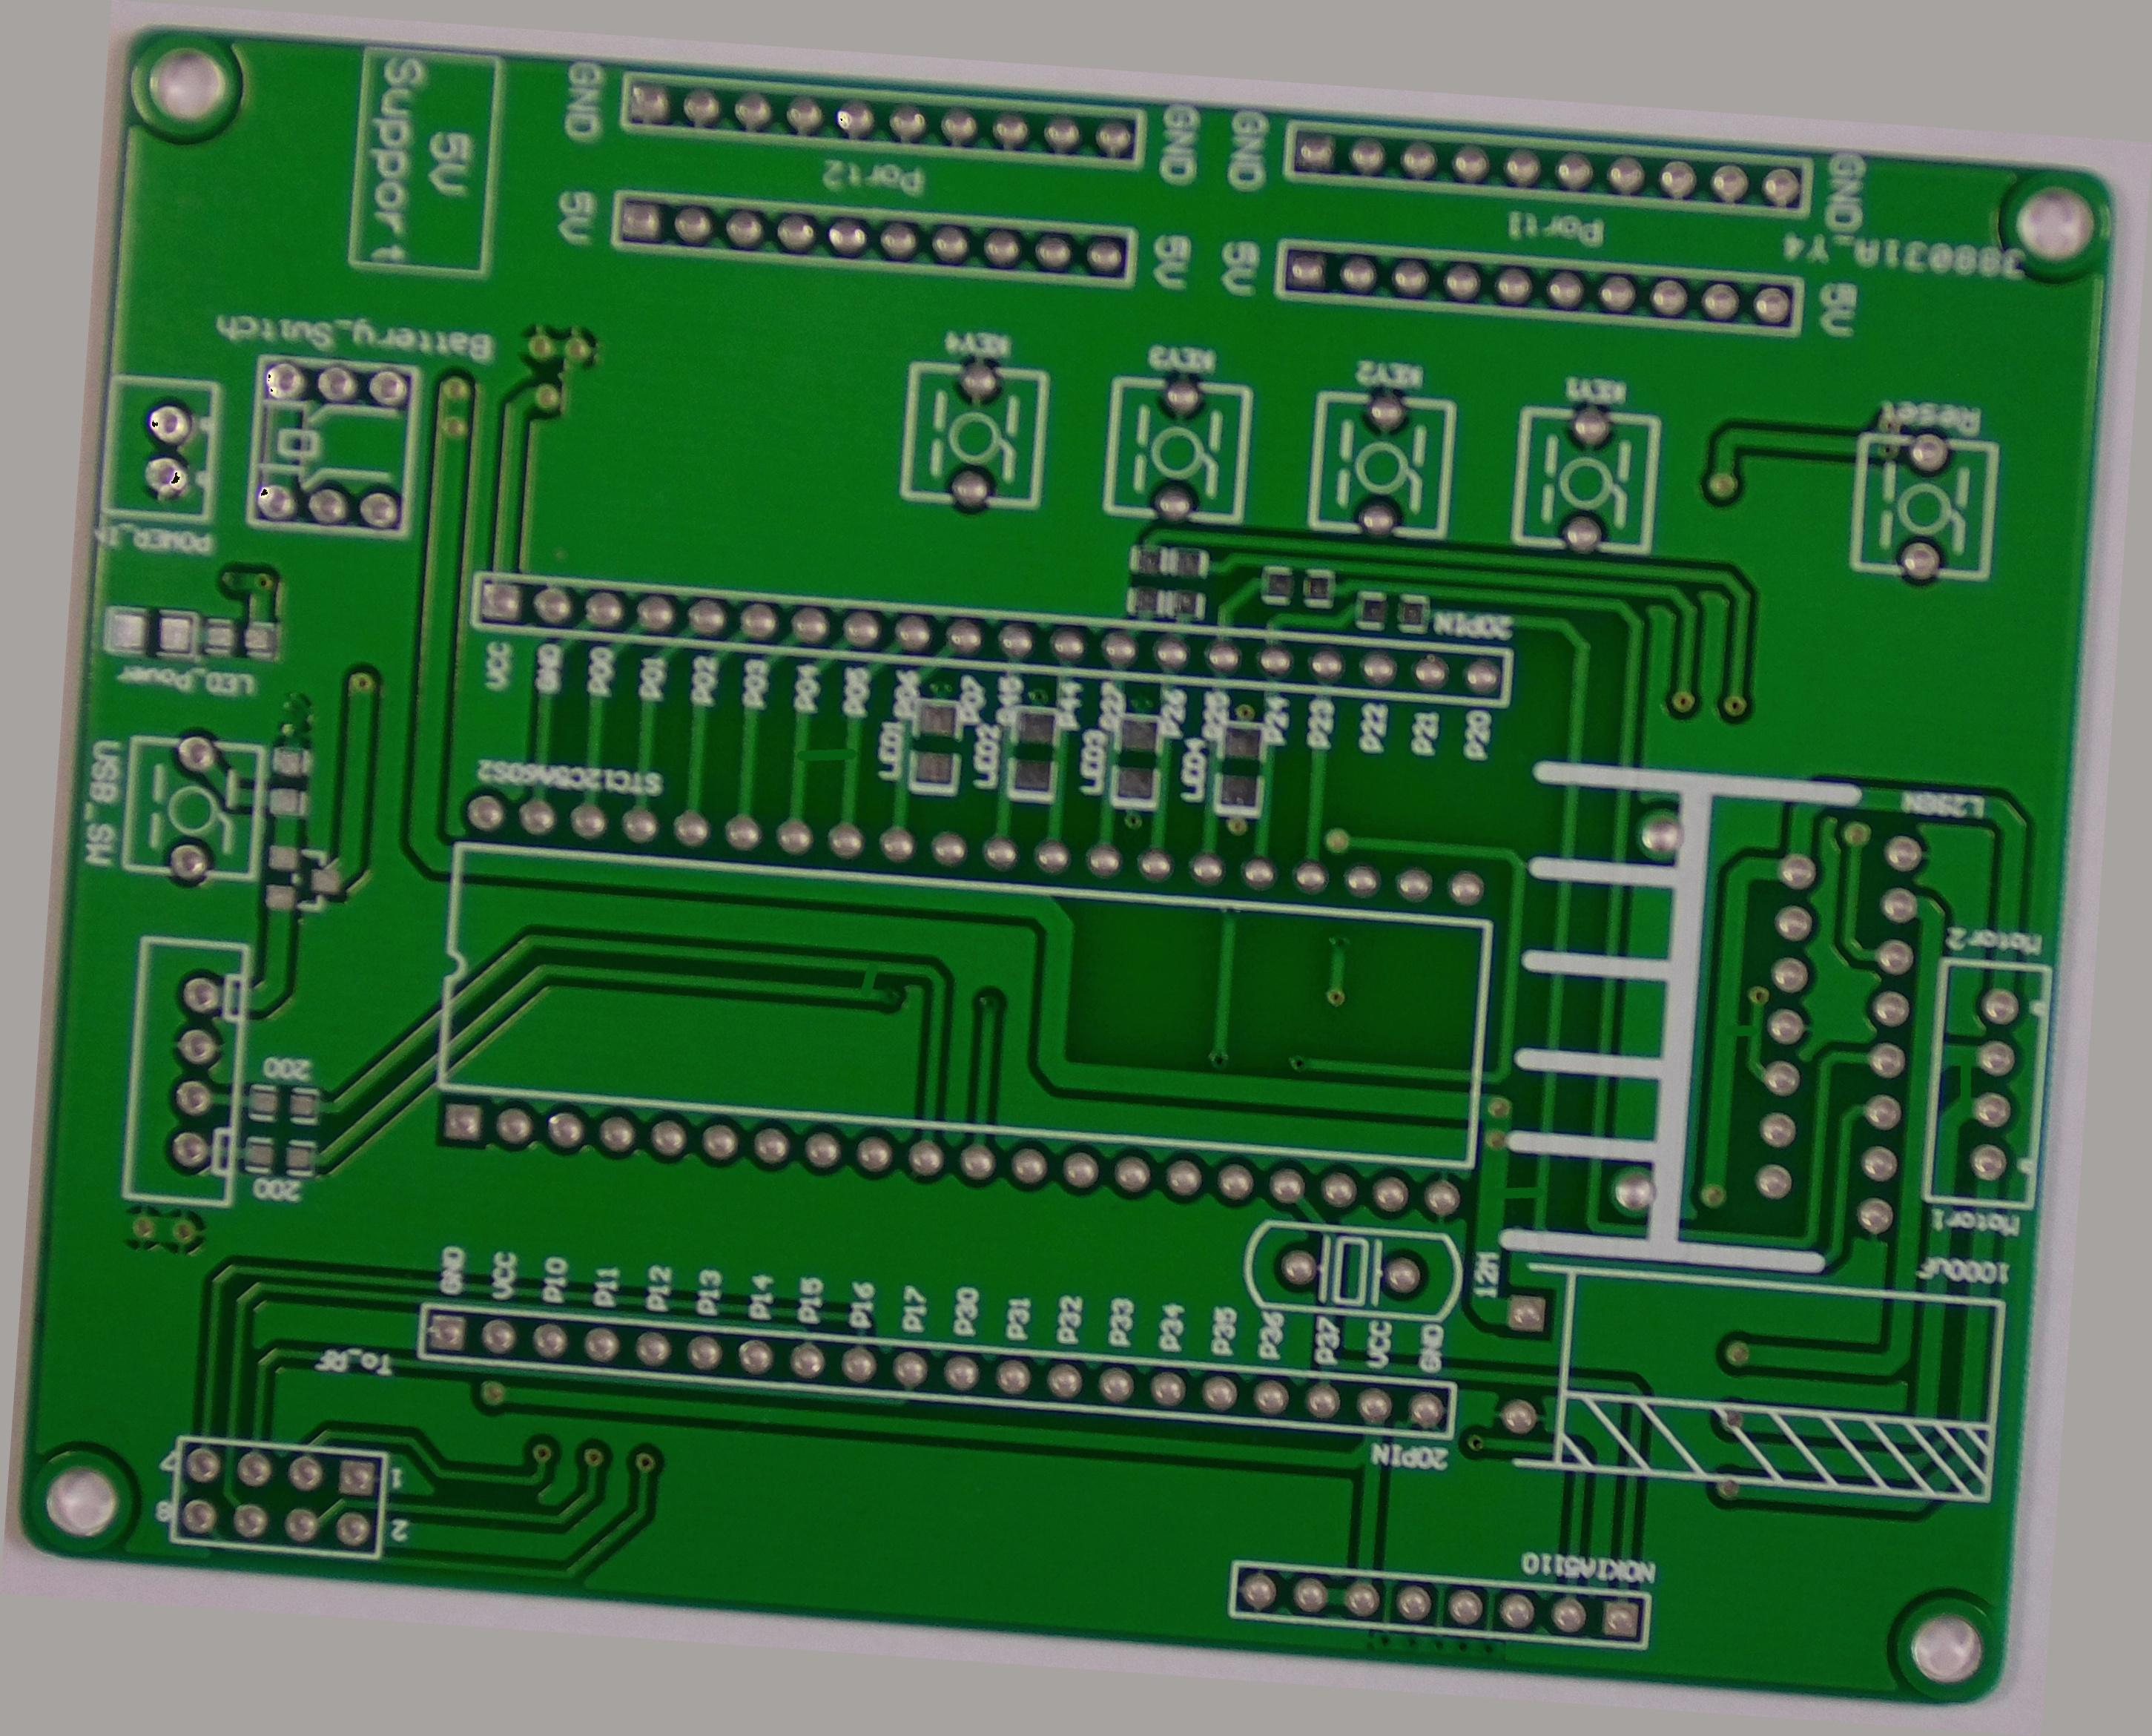short: (1934, 1042, 2001, 1123), (779, 730, 868, 783), (1477, 1166, 1553, 1222), (1707, 1006, 1777, 1059), (841, 953, 898, 1006)
